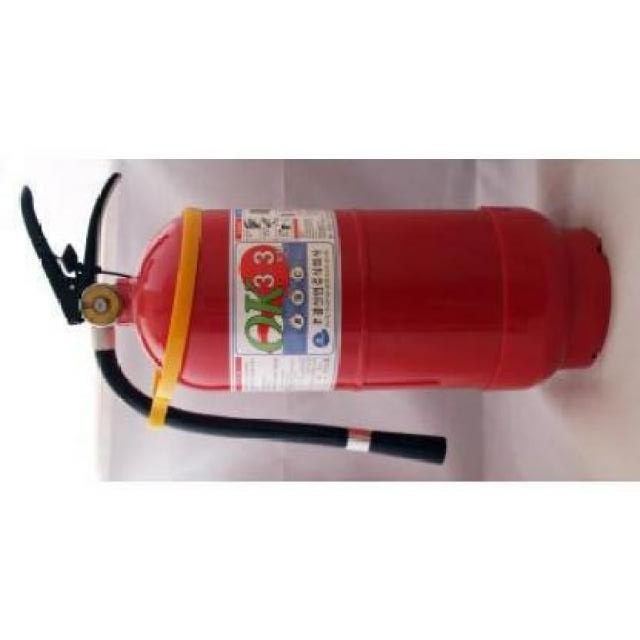fire extinguisher: (18, 173, 611, 465)
